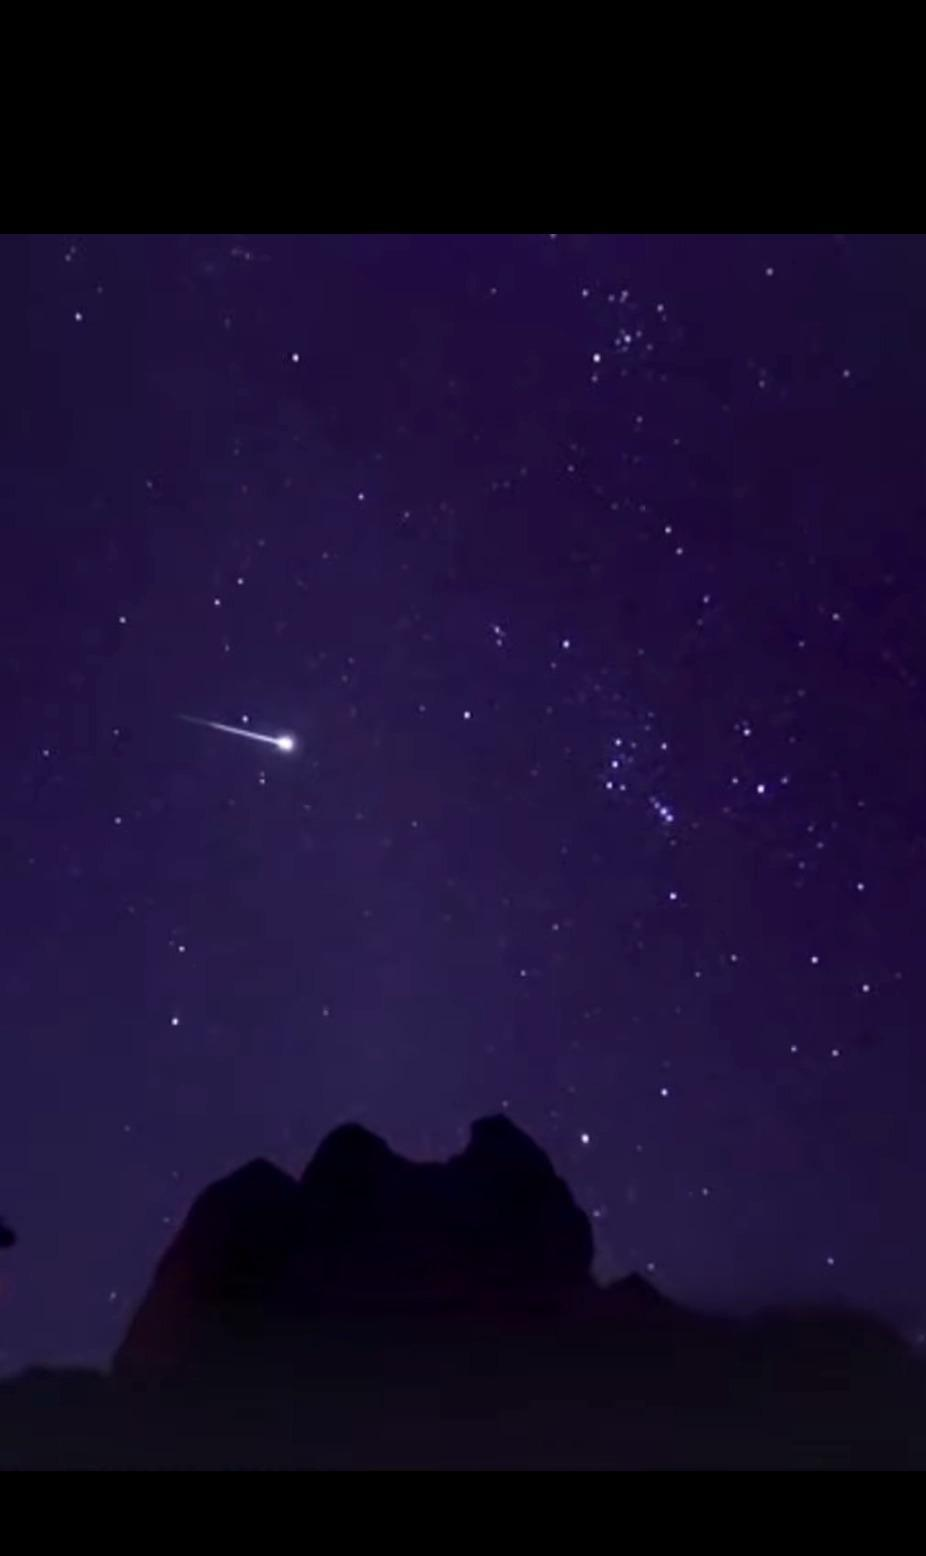meteorite: (172, 705, 323, 767)
